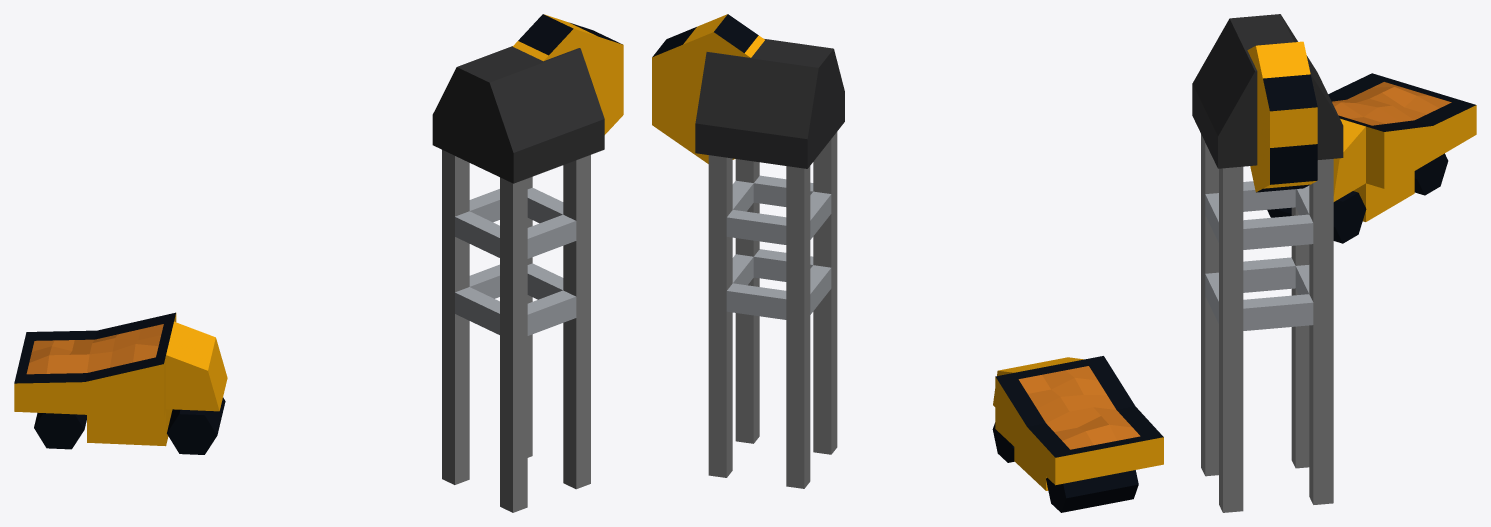
The model's file is Border_13_exploring.fbx.
3 renders of one model, left to right at view 1: azimuth 30°, elevation 25°; view 2: azimuth 150°, elevation 25°; view 3: azimuth 270°, elevation 25°, orthographic. The views are drawn at different scales.
Parts seen in each view (by area): view 1: Cube.028, Cube.029, Cylinder.013; view 2: Cube.028, Cube.029, Cylinder.013; view 3: Cube.028, Cube.029, Cylinder.013.
Boxes of the visible parts, left/top/right/bottom form: Cube.028: left=432, top=46, right=604, bottom=512; Cube.029: left=14, top=312, right=227, bottom=454; Cylinder.013: left=513, top=14, right=623, bottom=134; Cube.028: left=695, top=39, right=844, bottom=488; Cube.029: left=992, top=356, right=1163, bottom=512; Cylinder.013: left=652, top=14, right=764, bottom=163; Cube.028: left=1192, top=14, right=1343, bottom=512; Cube.029: left=1267, top=73, right=1476, bottom=243; Cylinder.013: left=1247, top=41, right=1317, bottom=192.
Size of the model in its own units: 208 by 158 by 86.97.
